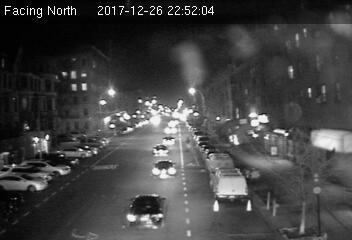car: (126, 193, 169, 227), (150, 160, 176, 179), (152, 144, 169, 157), (162, 137, 177, 147)
truck: (211, 168, 249, 200)
